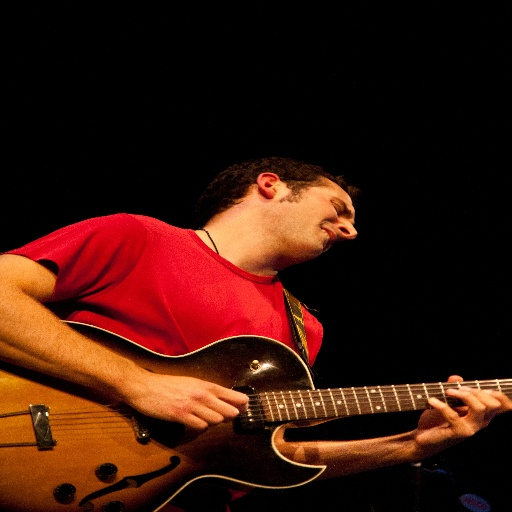hand: (110, 358, 234, 438), (411, 374, 511, 454)
